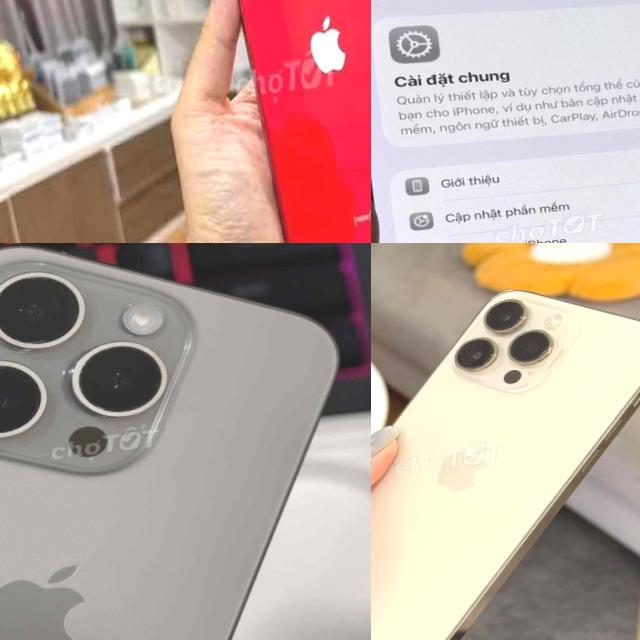gen_12_13: (371, 0, 640, 243)
gen_14: (371, 259, 640, 640), (206, 0, 371, 243)
gen_15: (0, 243, 371, 640)
